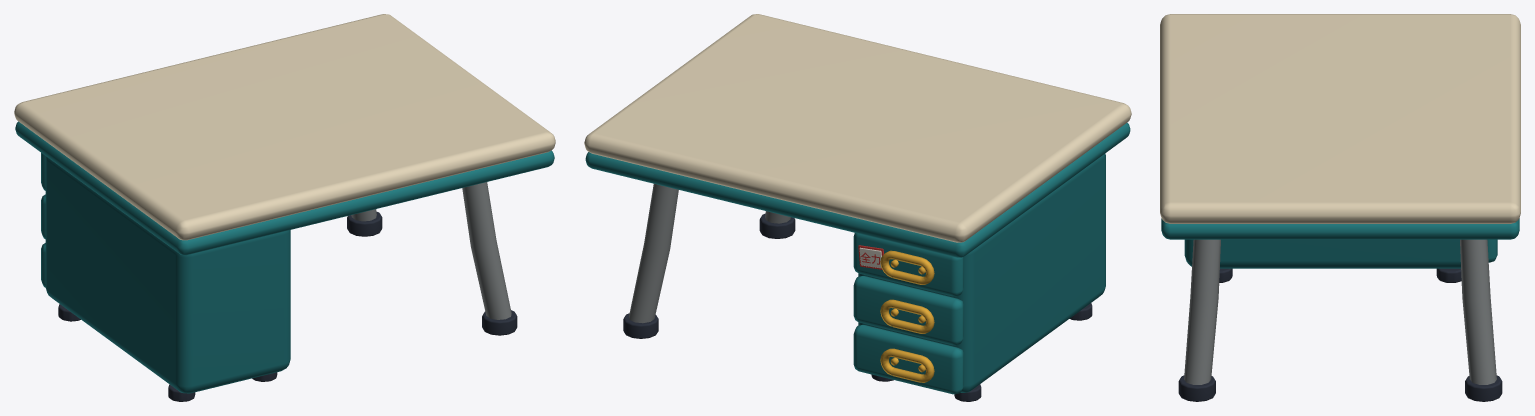
Rendered from desk.glb.
3 views of the same model, side by side, from view 1: azimuth 30°, elevation 25°; view 2: azimuth 150°, elevation 25°; view 3: azimuth 270°, elevation 25° (orthographic). The views are drawn at different scales.
Visible parts, largest first — view 1: Desk_Geometry; view 2: Desk_Geometry; view 3: Desk_Geometry.
Boxes of the visible parts, x1,y1,x2,y2 form: Desk_Geometry: [14, 14, 555, 401]; Desk_Geometry: [584, 14, 1131, 401]; Desk_Geometry: [1160, 14, 1520, 401].
Size of the model in its own units: 3.6 by 1.8 by 2.8.
